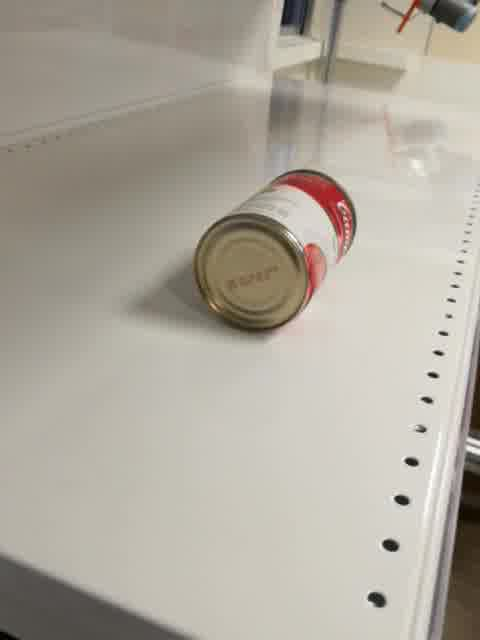tomatosoup: (191, 167, 360, 335)
